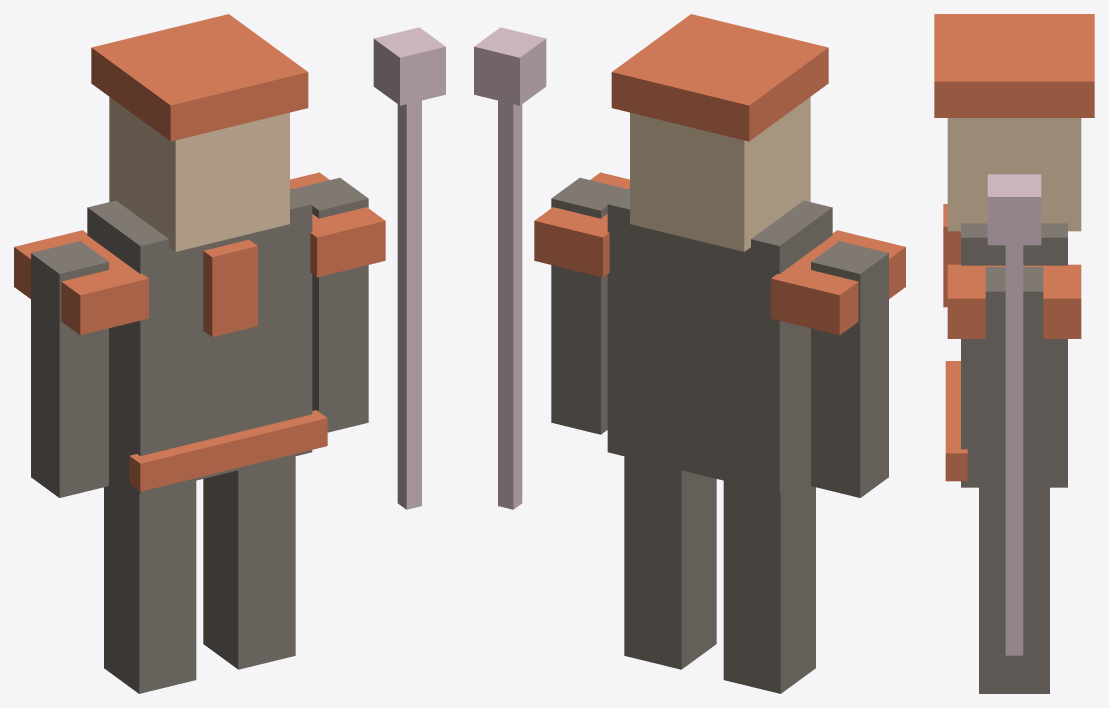
File: 10_keir_wayfare_marshal_near_ravine.glb
3 renders of one model, left to right at view 1: azimuth 30°, elevation 25°; view 2: azimuth 150°, elevation 25°; view 3: azimuth 270°, elevation 25°, orthographic.
Visible parts, largest first — view 1: Keir Wayfare, Marshal near Ravine; view 2: Keir Wayfare, Marshal near Ravine; view 3: Keir Wayfare, Marshal near Ravine.
Boxes of the visible parts, x1,y1,x2,y2 form: Keir Wayfare, Marshal near Ravine: [14, 14, 445, 693]; Keir Wayfare, Marshal near Ravine: [474, 14, 905, 693]; Keir Wayfare, Marshal near Ravine: [934, 14, 1094, 693].
Bounding box in the file's own units: 0.9381 × 1.39 × 0.3327.
